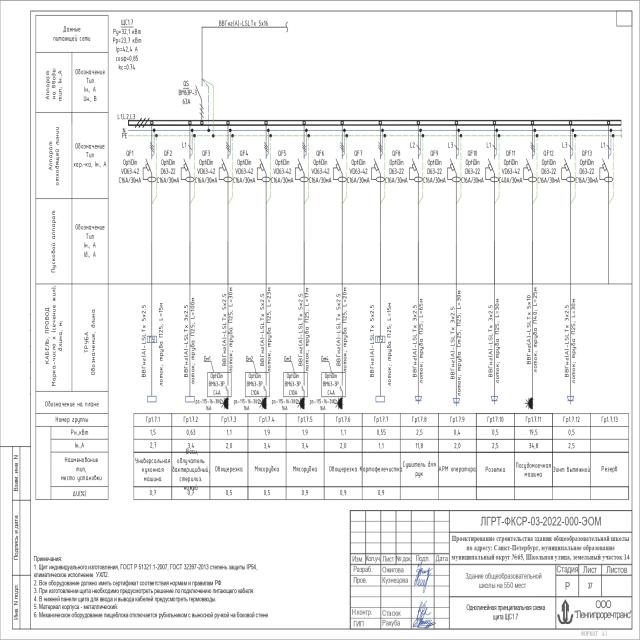-: (536, 158, 562, 184), (384, 158, 410, 184), (422, 158, 448, 184), (308, 158, 334, 184), (232, 158, 258, 184), (460, 158, 486, 184), (157, 158, 182, 184), (346, 158, 371, 184), (499, 158, 524, 184), (269, 158, 294, 184), (576, 158, 600, 184), (194, 158, 218, 184), (118, 159, 142, 185), (178, 88, 198, 105), (120, 18, 135, 28)
QFD: (560, 140, 576, 184), (294, 140, 310, 184), (446, 140, 462, 184), (484, 139, 500, 183), (180, 140, 195, 184), (409, 140, 424, 184), (142, 140, 157, 184), (333, 139, 348, 183), (370, 140, 385, 183), (523, 140, 538, 183), (218, 140, 233, 183), (255, 140, 270, 183), (600, 139, 614, 183)
QS: (194, 82, 206, 120)
